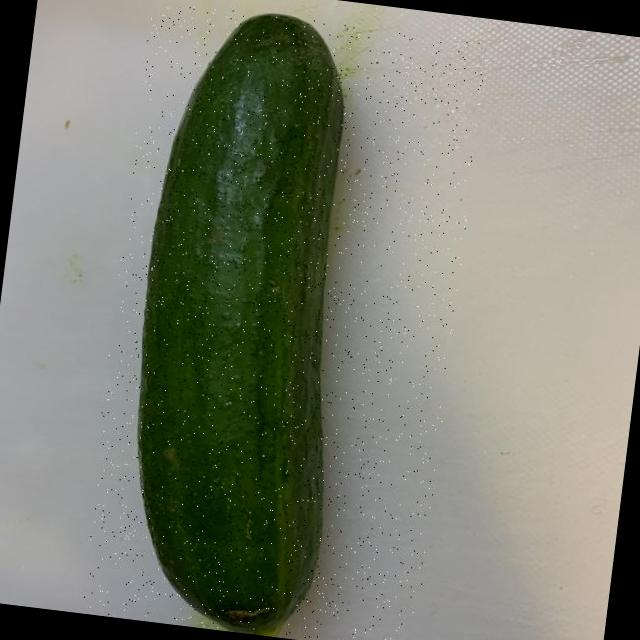Cucumber: (105, 2, 381, 640)
